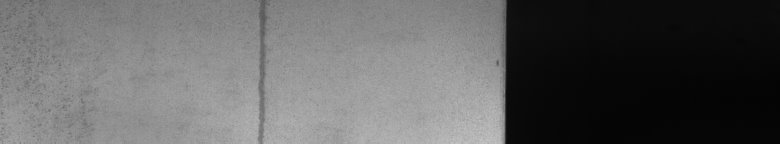hd: (253, 4, 271, 136)
